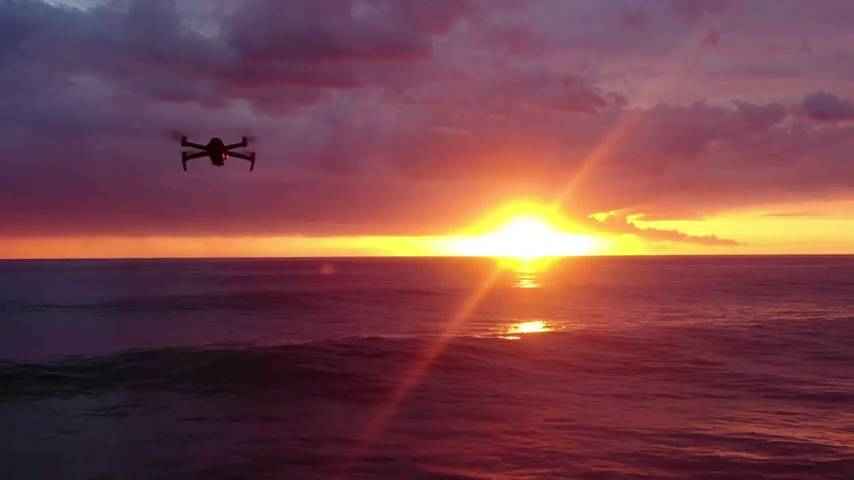drone: (178, 130, 257, 174)
